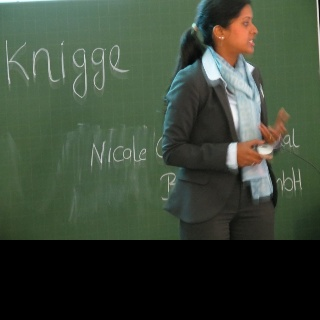without_mask: (224, 4, 257, 55)
